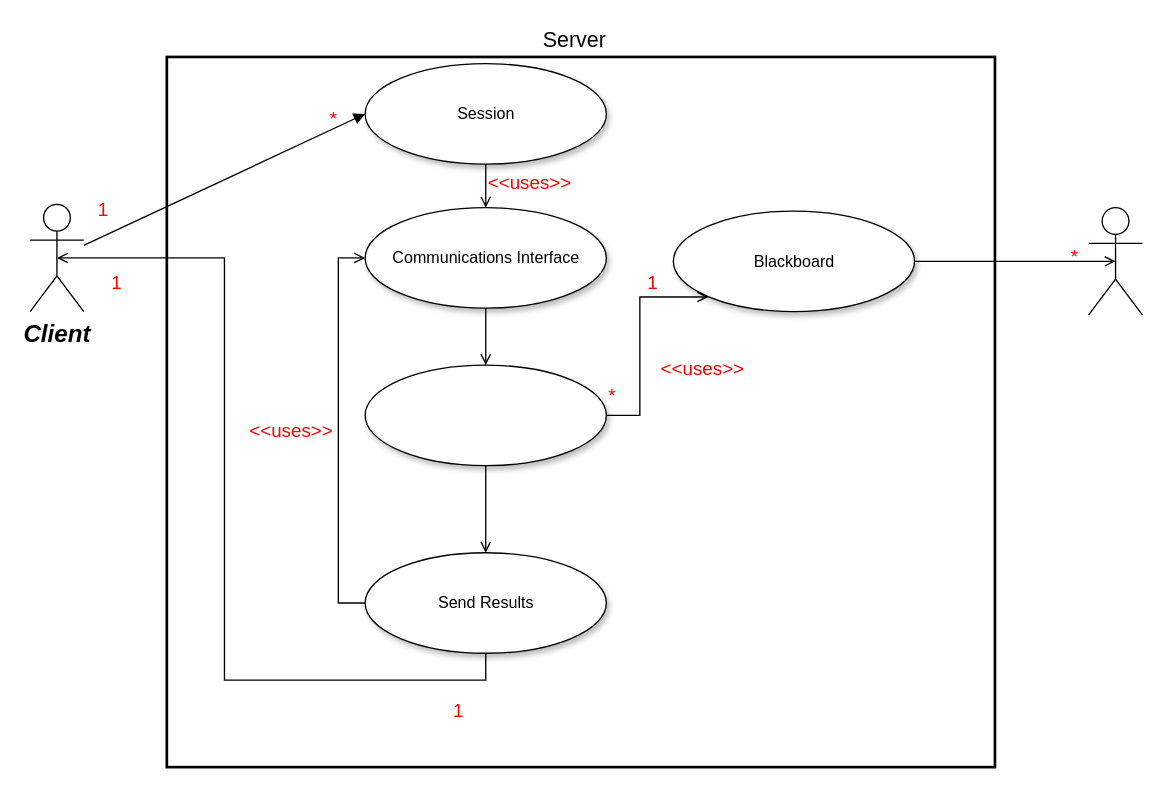
Some shapes in this 1175 by 791 pixel diagram are drawn without their labels. The shapes that lost their labels are listed below. From the top down, each one's centre as x and y in pixels, then its label:
At (1114,260): "Expert".
At (486,416): "Process Query".
